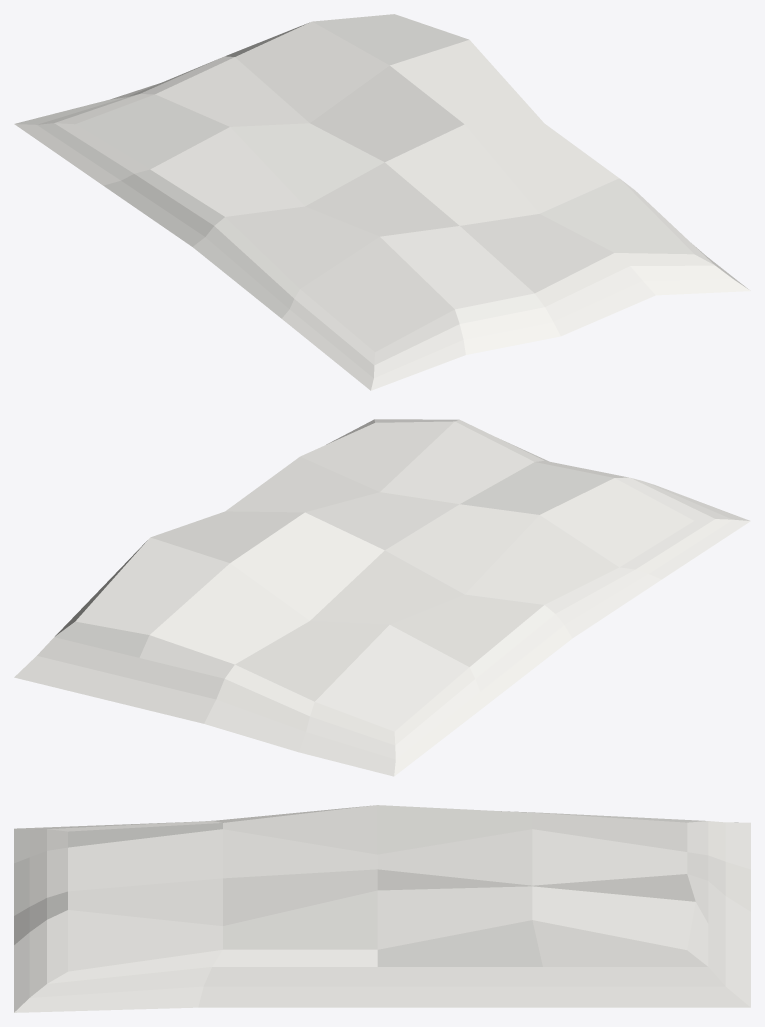
File: Paper trash.fbx
3 renders of one model, top to bottom at view 1: azimuth 30°, elevation 25°; view 2: azimuth 150°, elevation 25°; view 3: azimuth 270°, elevation 25°, orthographic. The views are drawn at different scales.
Visible parts, largest first — view 1: Cube; view 2: Cube; view 3: Cube.
Boxes of the visible parts, x1=… form: Cube: x1=14, y1=14, x2=750, y2=390; Cube: x1=14, y1=419, x2=750, y2=776; Cube: x1=14, y1=805, x2=750, y2=1012.
Bounding box in the file's own units: 1428 × 303 × 2323.
Materials: 1 (1 with a texture image).
